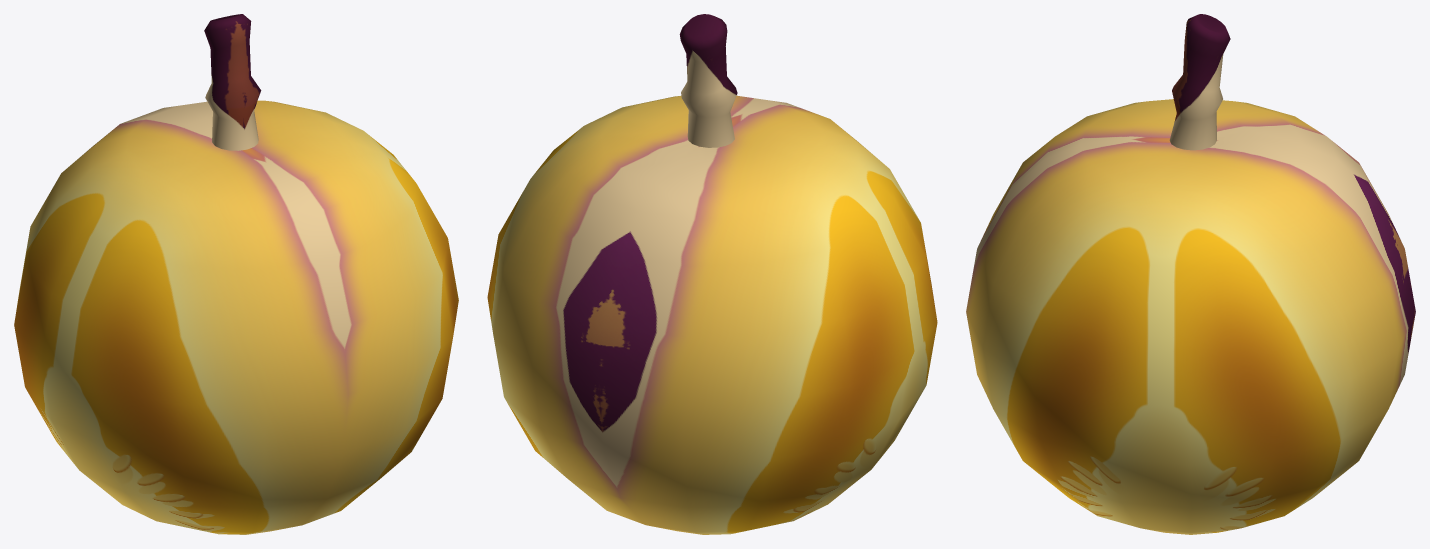
The model's file is Star_Apple_01.fbx.
The picture shows the model from 3 angles, left to right: view 1: azimuth 30°, elevation 25°; view 2: azimuth 150°, elevation 25°; view 3: azimuth 270°, elevation 25°; orthographic projection.
Parts seen in each view (by area): view 1: Star_Apple_01; view 2: Star_Apple_01; view 3: Star_Apple_01.
Boxes of the visible parts, x1,y1,x2,y2 form: Star_Apple_01: [14, 14, 458, 534]; Star_Apple_01: [487, 14, 937, 534]; Star_Apple_01: [966, 14, 1415, 534].
Size of the model in its own units: 33.74 by 41.25 by 33.74.
